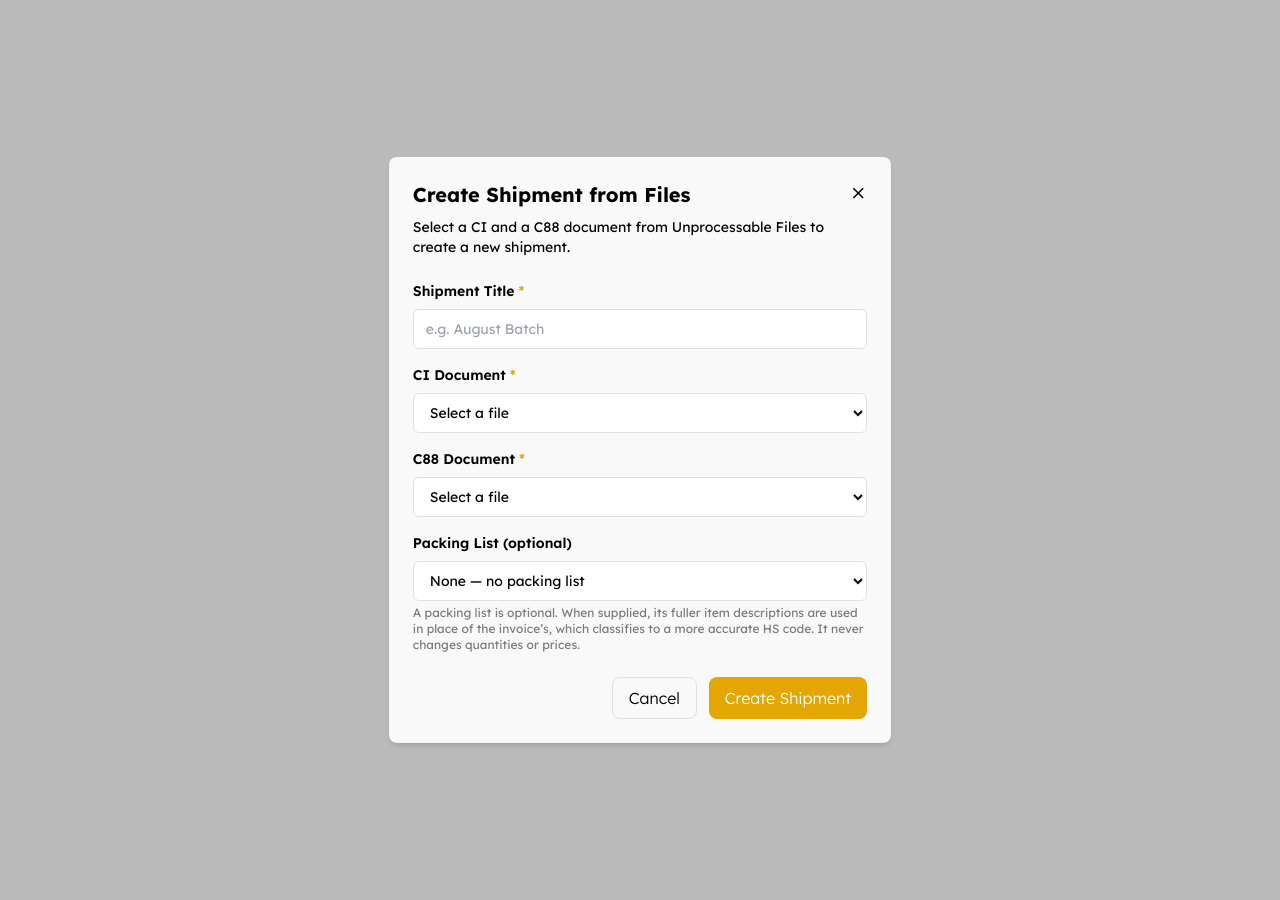
it: CreateShipmentModal › rejects submission when only one of CI/C88 is selected
Step 1. Type "August Batch" into the field labelled "Shipment Title*" → (640, 329), box [413,309,867,349]
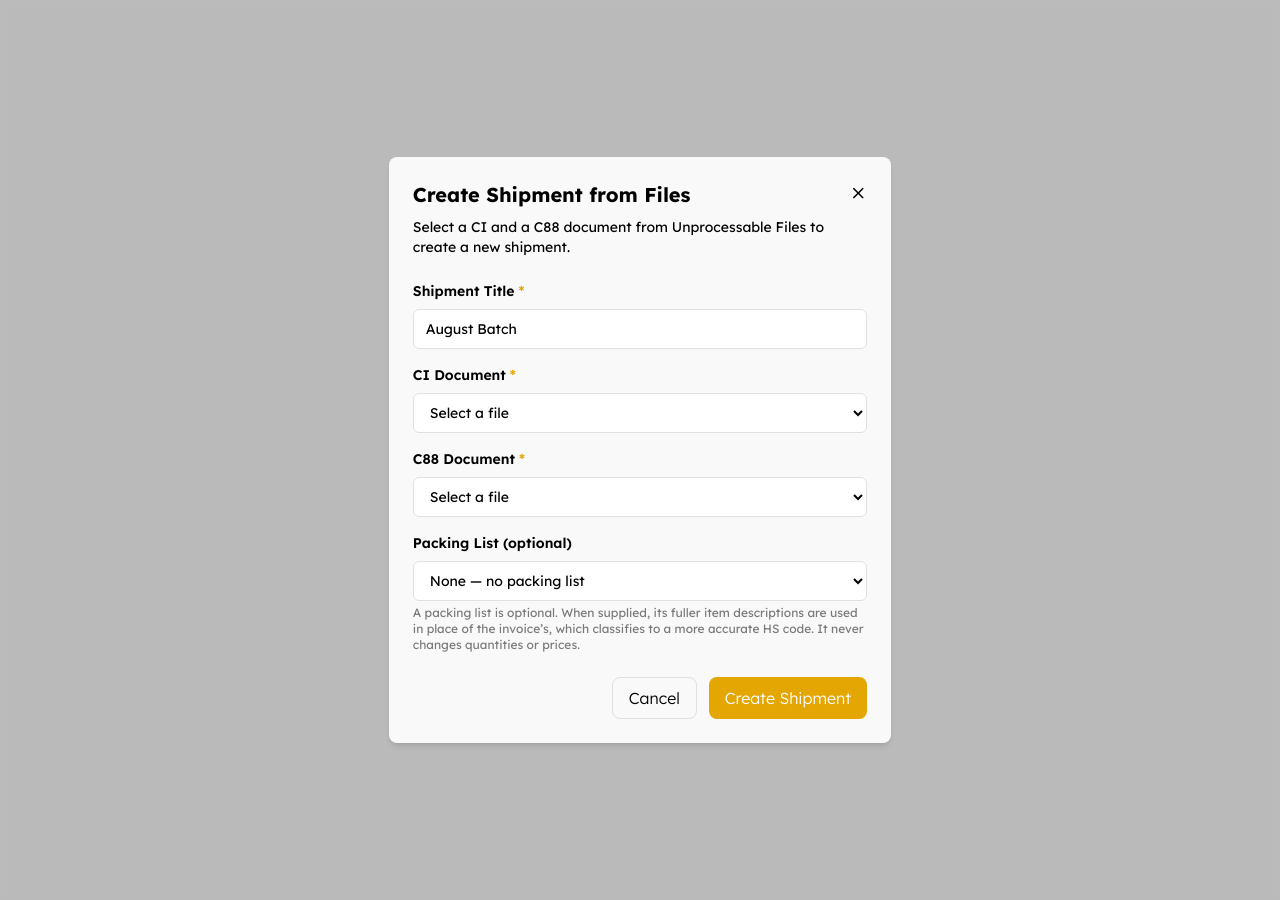
Step 2. Select "ci.pdf" in the dropdown labelled "CI Document*" → (640, 413), box [413,393,867,433]
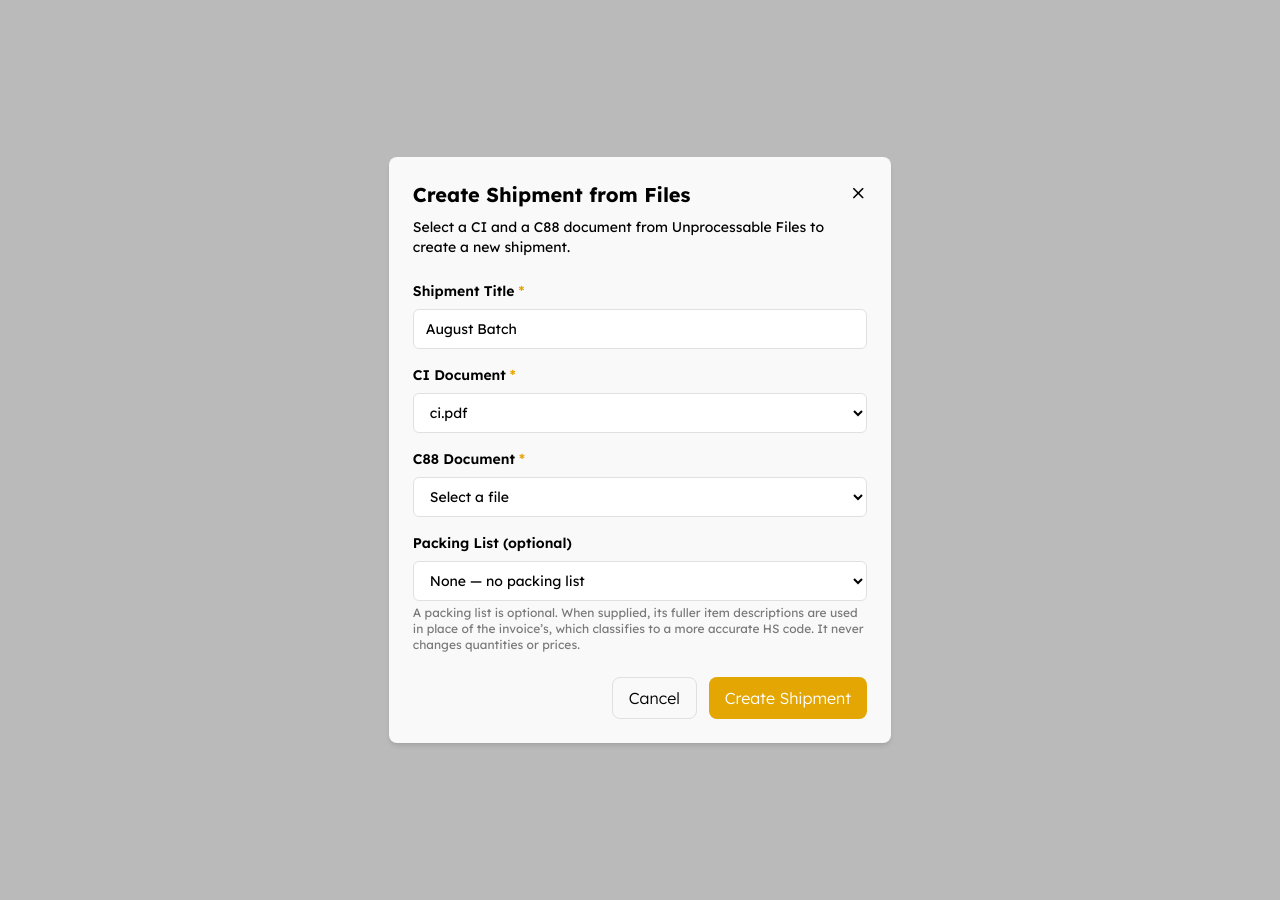
Step 3. Click the button "Create Shipment" → (788, 698), box [709,677,867,719]
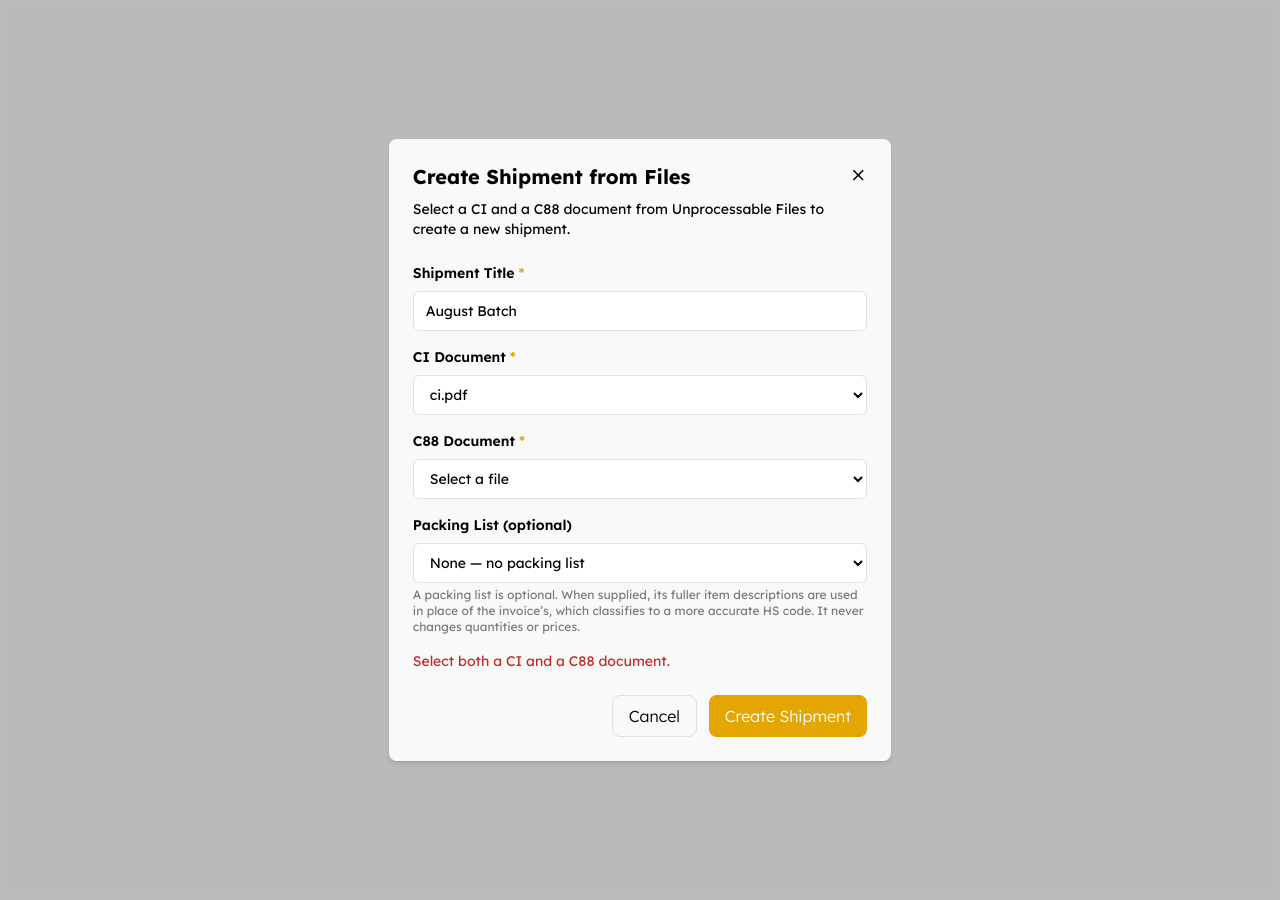
Result: the text "Select both a CI and a C88 document." is shown at [413,652,670,670]
